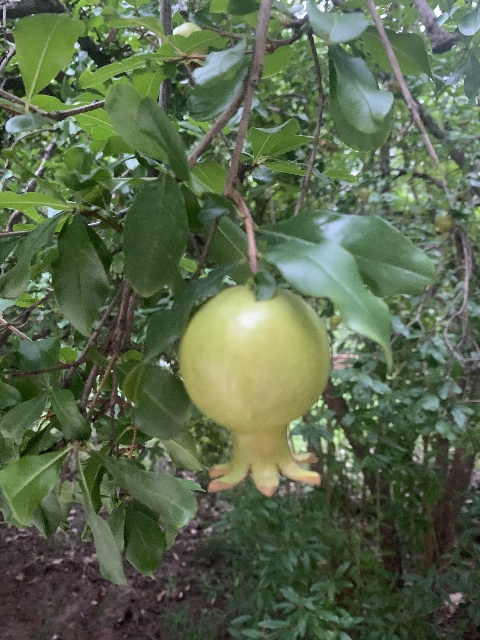mid-growth: (177, 284, 330, 497), (433, 214, 453, 236)
